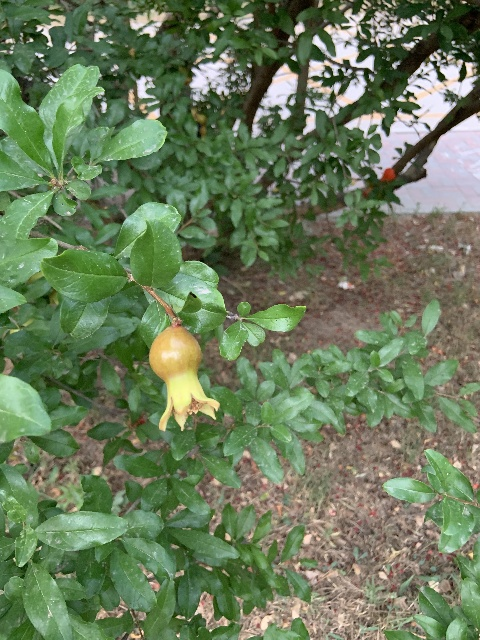early-fruit: (149, 326, 220, 432)
